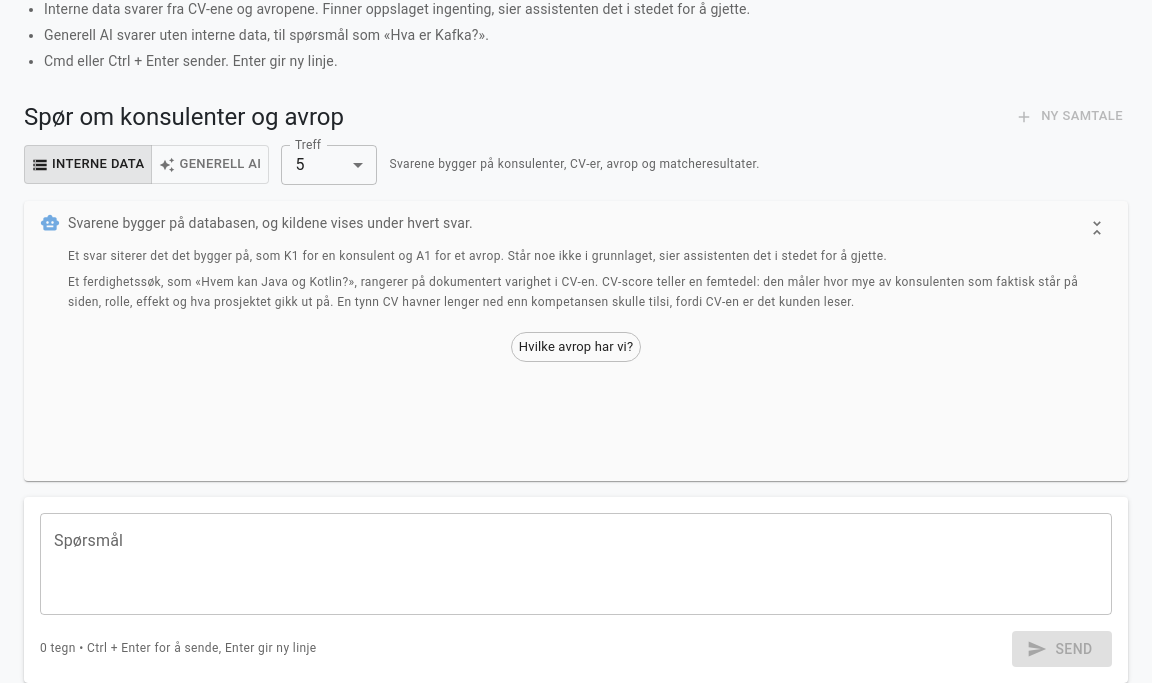
Scenario: ChatAssistantPage › shows the answer, its kind and its sources
(page scrolled)
Replace the text in the text box labelled "Spørsmål" with "Hva kan Thomas Andersen best?" at (576, 564), box [54,529,1098,598]
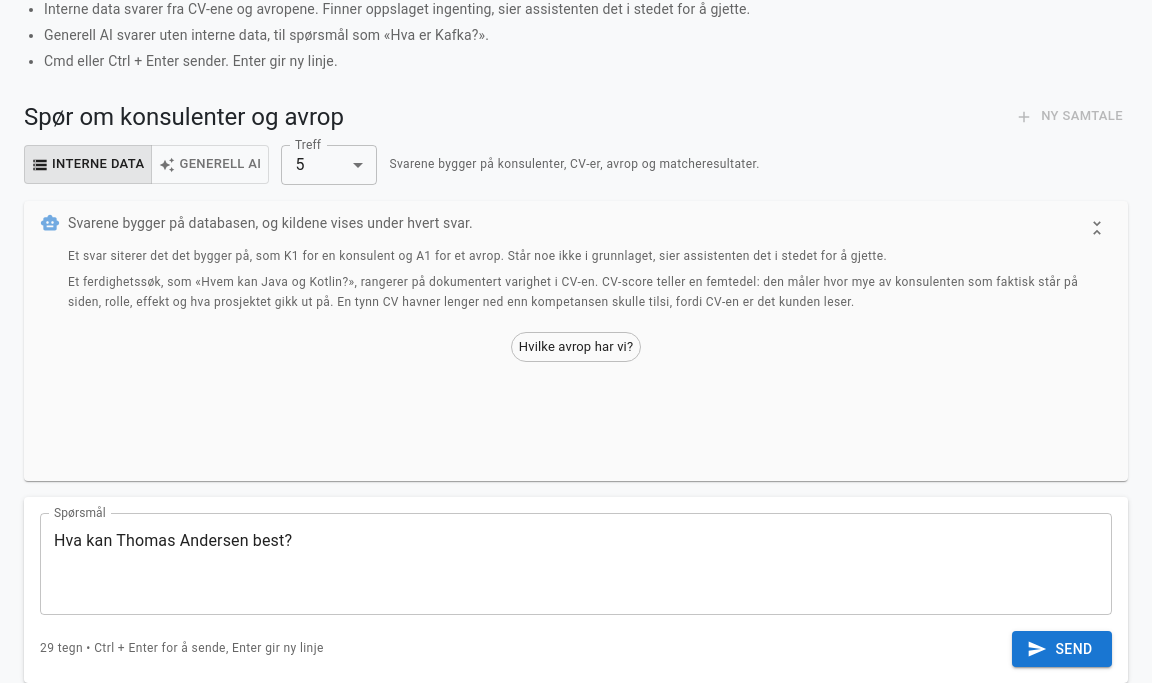
Click the button "Send".
click(1062, 649)  # box [1012,631,1112,667]
(page scrolled)
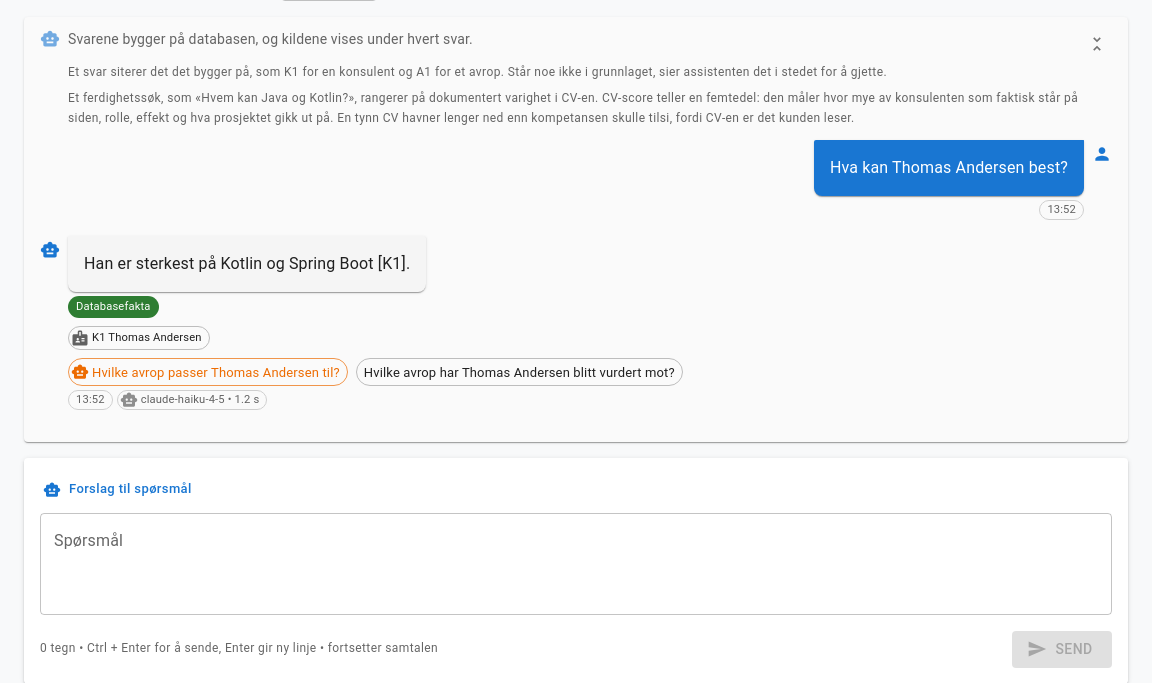
expect the text "Han er sterkest på Kotlin og Spring Boot [K1]." is shown: met, box [84,252,410,276]
expect the text "Databasefakta" is shown: met, box [76,300,151,313]
expect the text "K1 Thomas Andersen" is shown: met, box [85,330,209,347]
